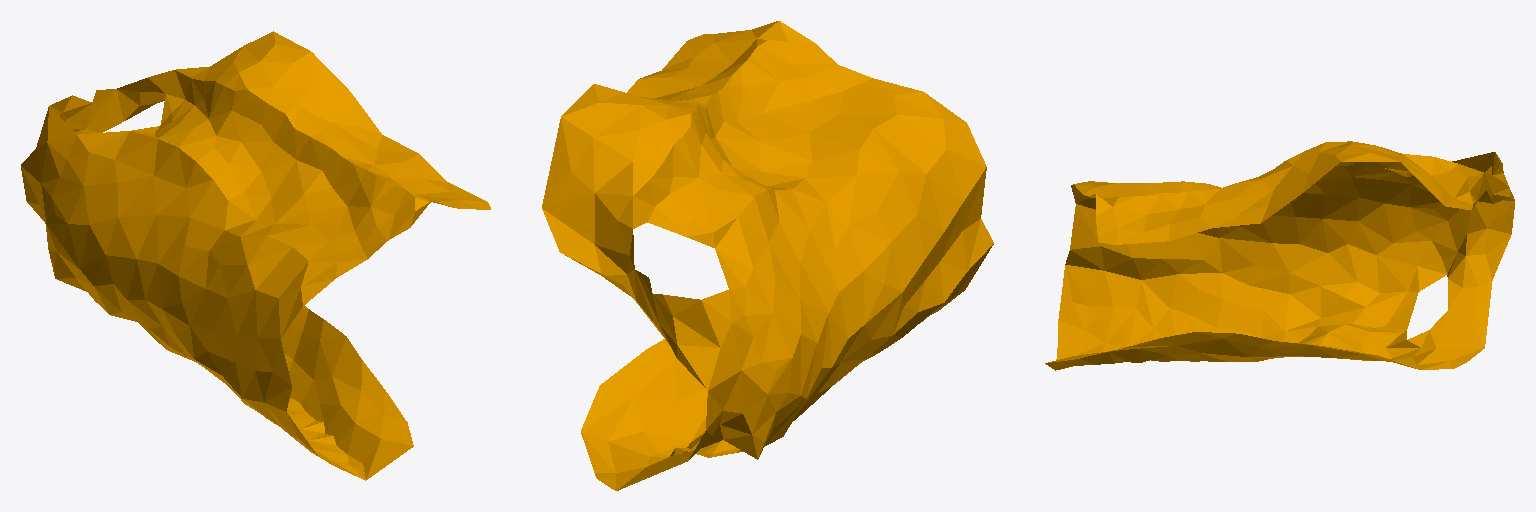
The robot description file, URDF, robot "init":
<?xml version='1.0' encoding='utf-8'?>
<robot name="init">
<link name="link_0"><inertial><mass value="1.0" /><origin rpy="0 0 0" xyz="0.000000 0.000000 0.000000" /><inertia ixx="1.0" ixy="0.0" ixz="0.0" iyy="1.0" iyz="0.0" izz="1.0" /></inertial><visual><origin rpy="0 0 0" xyz="0.000000 0.000000 0.000000" /><geometry><mesh filename="./clothHuman/cloth/2726.obj" /></geometry></visual><collision><origin rpy="0 0 0" xyz="0.000000 0.000000 0.000000" /><geometry><mesh filename="./clothHuman/cloth/2726.obj" /></geometry></collision></link></robot>

--- Render facts (derived) ---
Views: 3 orthographic renders of the robot side by side, from view 1: azimuth 30°, elevation 25°; view 2: azimuth 150°, elevation 25°; view 3: azimuth 270°, elevation 25°.
Robot: init — 1 links, 0 joints (none); root link link_0; default pose: all joints at 0.
Links seen in each view (by area): view 1: link_0; view 2: link_0; view 3: link_0.
Boxes of the visible links, x1,y1,x2,y2 form: link_0: (21, 31, 490, 480); link_0: (542, 21, 993, 490); link_0: (1045, 141, 1514, 370).
Bounding box of the posed robot: 2.17 × 3.9 × 2.33 m (x, y, z).
Meshes: 1 distinct files referenced, 1 mesh visuals loaded (1 OBJ).